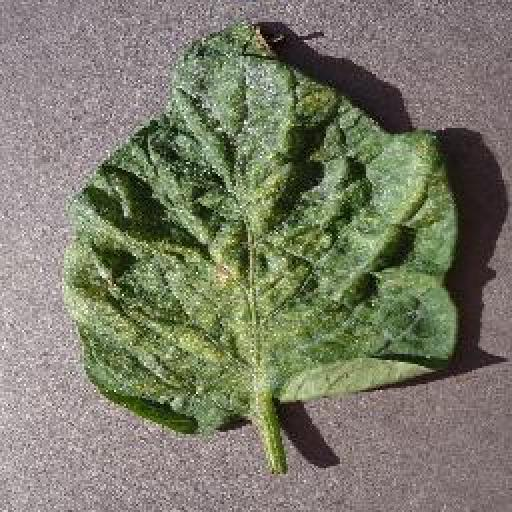disease_tomato: (63, 17, 462, 439)
